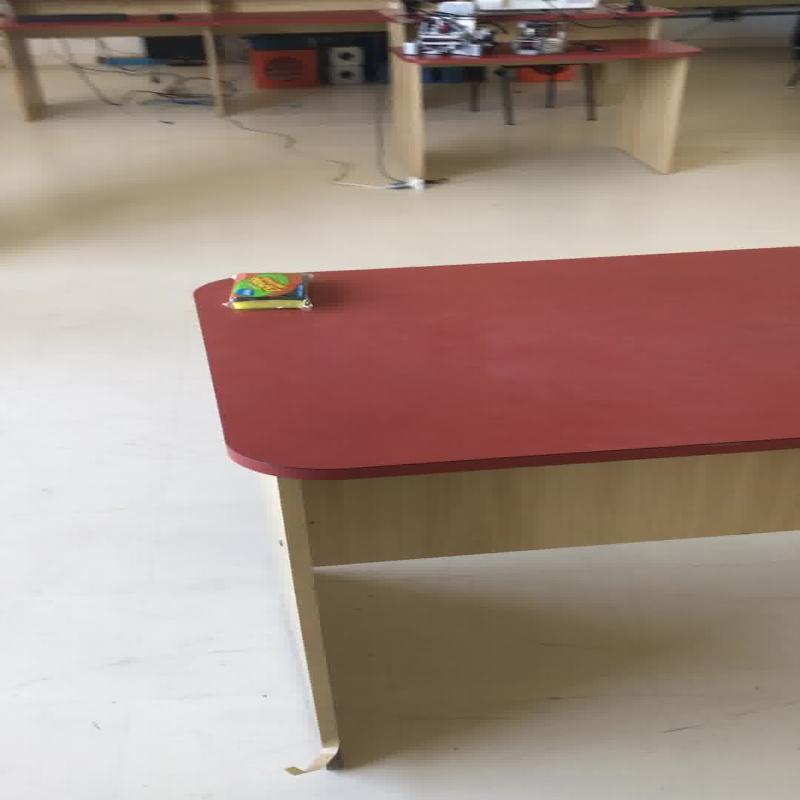sponge: (226, 271, 312, 310)
